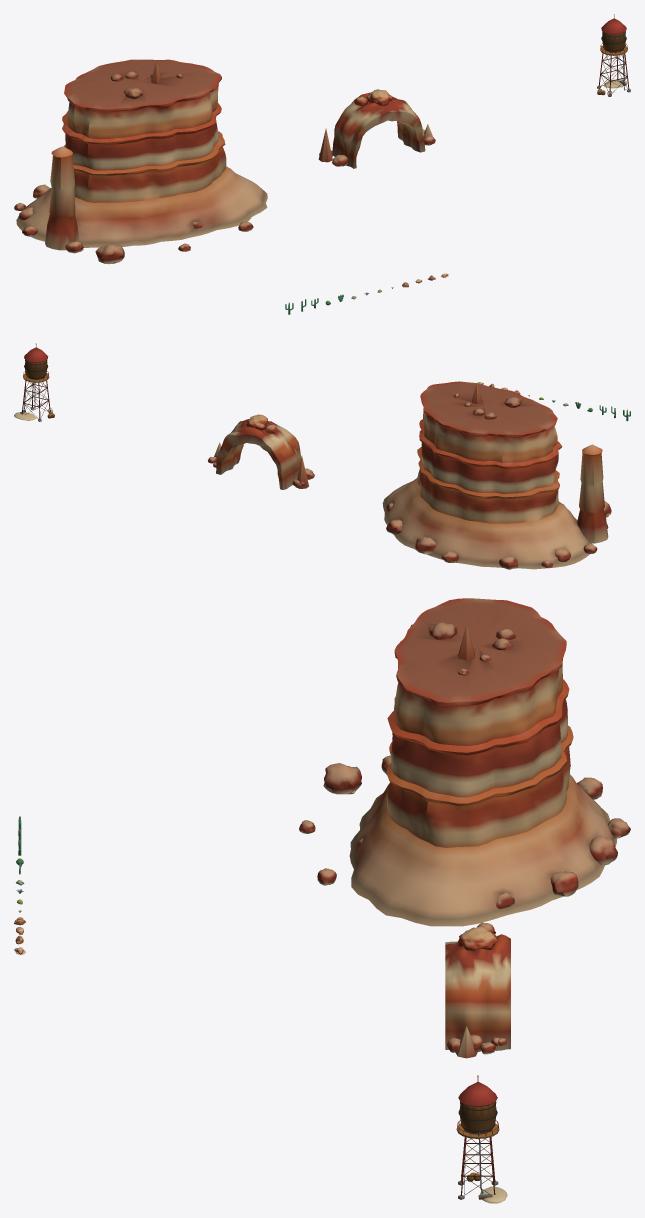
File: world-canyon.glb
The picture shows the model from 3 angles, top to bottom: view 1: azimuth 30°, elevation 25°; view 2: azimuth 150°, elevation 25°; view 3: azimuth 270°, elevation 25°; orthographic projection. The views are drawn at different scales.
Parts seen in each view (by area): view 1: mesa.body.lit, arch.body.lit, tower.body.lit; view 2: mesa.body.lit, arch.body.lit, tower.body.lit; view 3: mesa.body.lit, arch.body.lit, tower.body.lit.
Boxes of the visible parts, bbox=[...] form: mesa.body.lit: bbox=[14, 59, 267, 264]; arch.body.lit: bbox=[318, 89, 435, 168]; tower.body.lit: bbox=[597, 14, 630, 96]; mesa.body.lit: bbox=[382, 381, 611, 569]; arch.body.lit: bbox=[208, 414, 314, 489]; tower.body.lit: bbox=[14, 343, 54, 421]; mesa.body.lit: bbox=[299, 598, 630, 926]; arch.body.lit: bbox=[445, 922, 510, 1058]; tower.body.lit: bbox=[456, 1075, 507, 1203].
Size of the model in its own units: 282 by 66.3 by 162.
